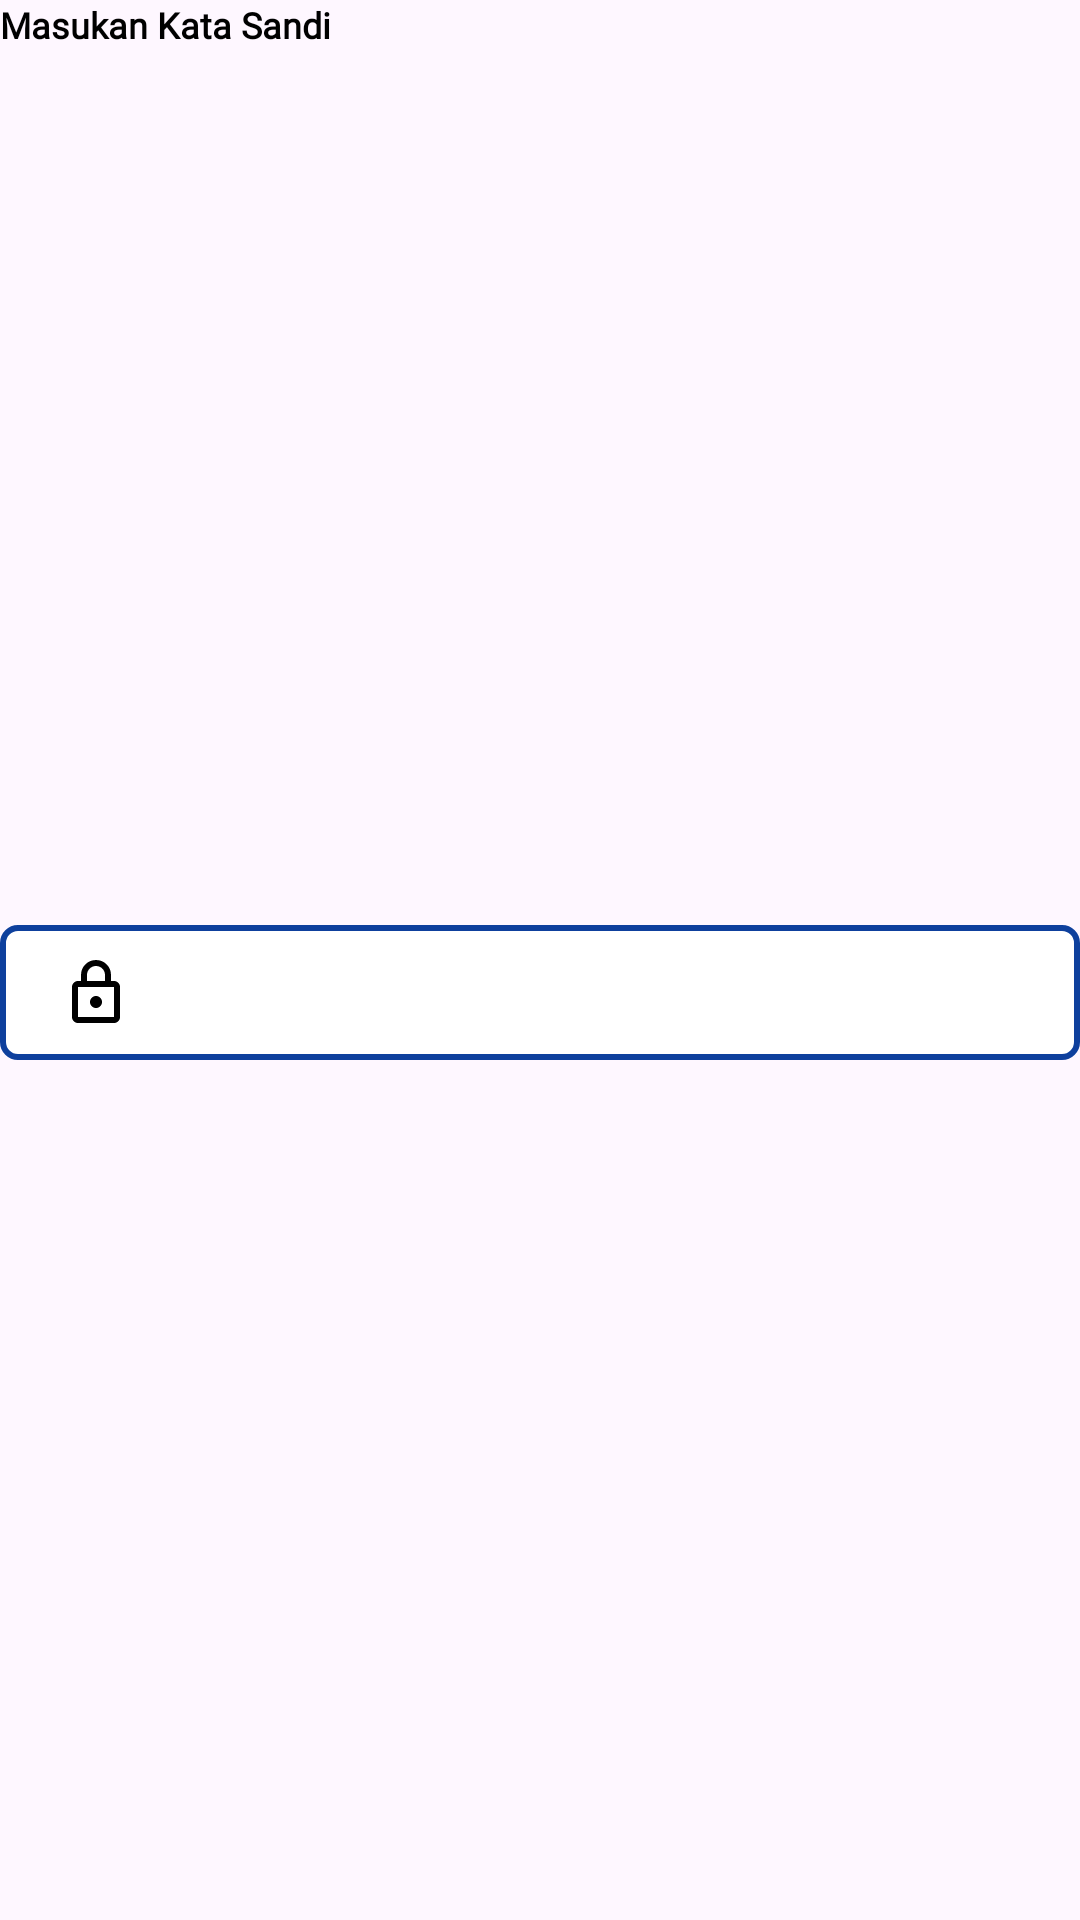

Where to tap for icons on this 1080w x 1920h app screen, as (x,y):
lock: (96,991)
